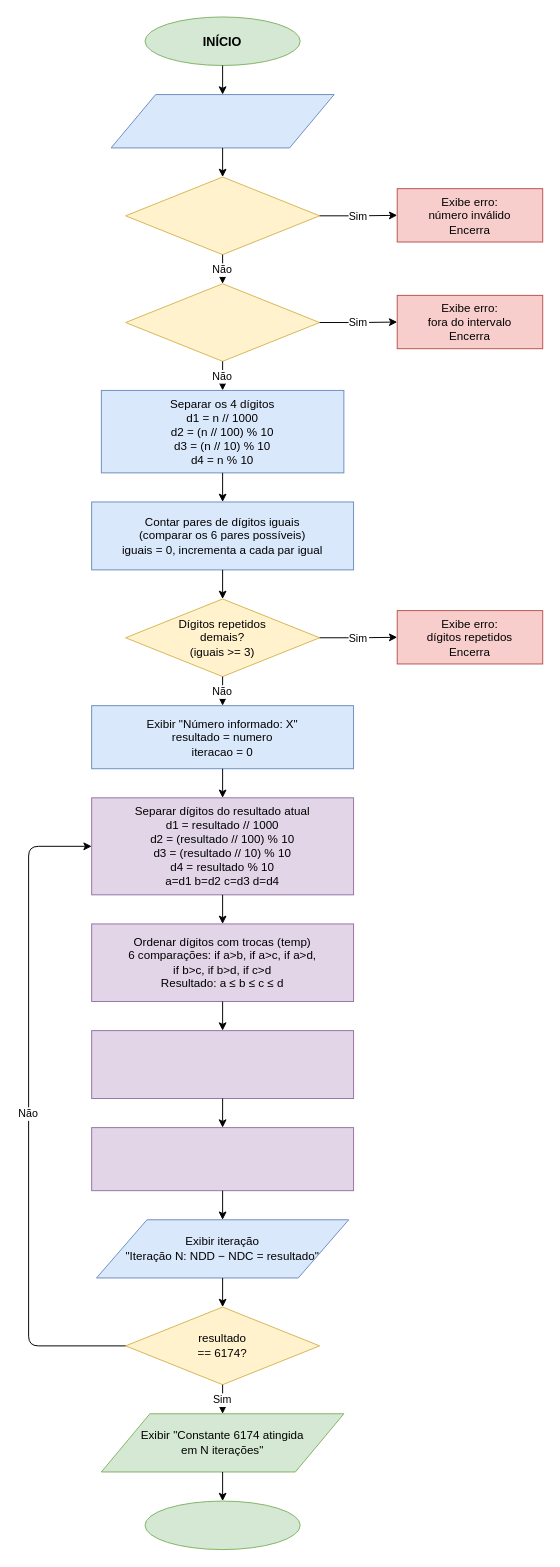
This 560x1567 diagram has some shape labels left out. Each missing label, with the centre of its shape:
"FIM" goes at point (222, 1525).
"Montar NDC e NDD NDC = a×1000 + b×100 + c×10 + d NDD = d×1000 + c×100 + b×10 + a" goes at point (222, 1064).
"Número maior que 9999? (numero > 9999)" goes at point (222, 322).
"Número é negativo? (numero < 0)" goes at point (222, 215).
"Subtrair resultado = NDD − NDC iteracao = iteracao + 1" goes at point (222, 1159).
"Usuário digita um número int(input(...))" goes at point (222, 121).
